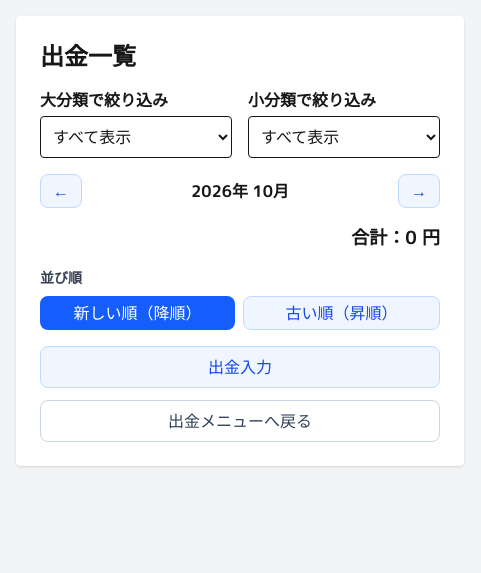
ExpenseListPage › 年月切替前の遅いレスポンスで現在の一覧を上書きしない
Click the button "→" at (419, 191), box [398,174,440,208]
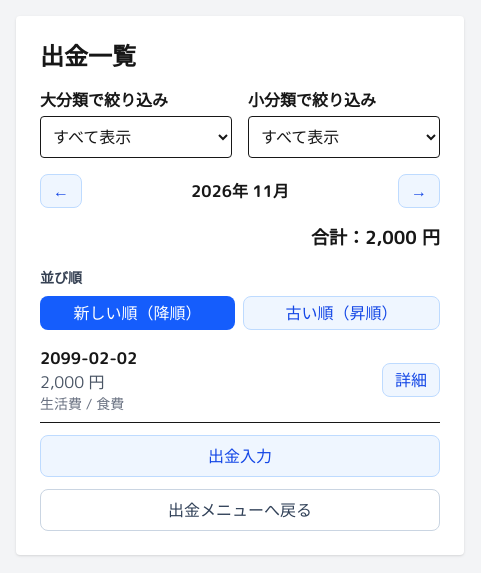
Check: the text "2099-02-02" is shown, box [40,346,137,370]
